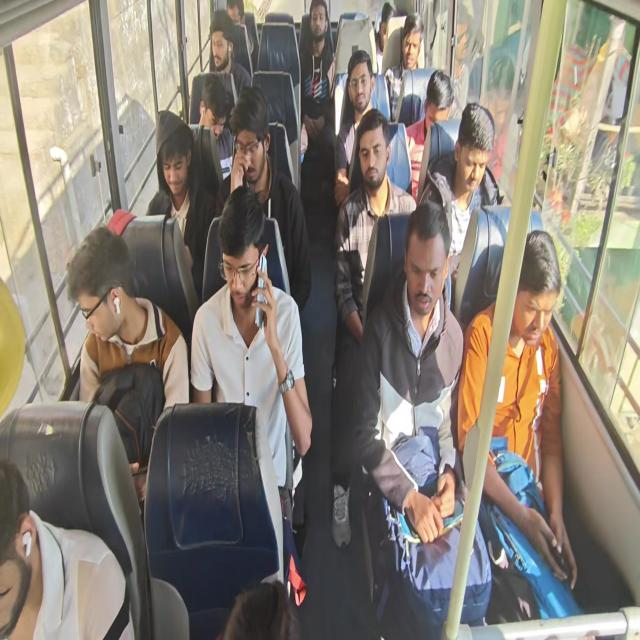person: (63, 2, 580, 636), (351, 200, 492, 638), (189, 186, 313, 598), (457, 228, 578, 590), (330, 108, 418, 548), (66, 225, 190, 506), (0, 458, 135, 638), (215, 85, 312, 314), (418, 101, 496, 310), (146, 109, 215, 302), (298, 1, 336, 205), (189, 11, 251, 134), (333, 49, 376, 207), (405, 69, 454, 200), (480, 53, 517, 202), (221, 579, 300, 639), (191, 72, 234, 180), (384, 12, 425, 122), (448, 2, 482, 120), (226, 0, 258, 78)
